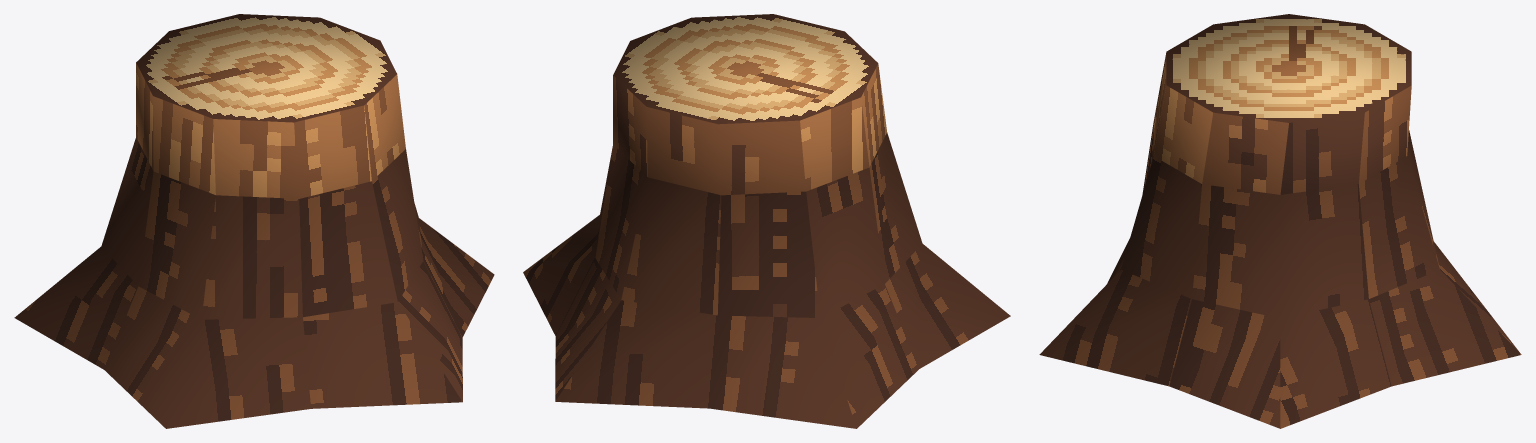
Rendered from stump.glb.
The picture shows the model from 3 angles, left to right: view 1: azimuth 30°, elevation 25°; view 2: azimuth 150°, elevation 25°; view 3: azimuth 270°, elevation 25°; orthographic projection. The views are drawn at different scales.
Parts seen in each view (by area): view 1: stump; view 2: stump; view 3: stump.
Part boxes in pixels (x1=…): stump: x1=14, y1=14, x2=494, y2=428; stump: x1=523, y1=14, x2=1010, y2=428; stump: x1=1039, y1=14, x2=1521, y2=428.
Bounding box in the file's own units: 1.07 × 0.65 × 1.12.
Materials: 1 (1 with a texture image).
